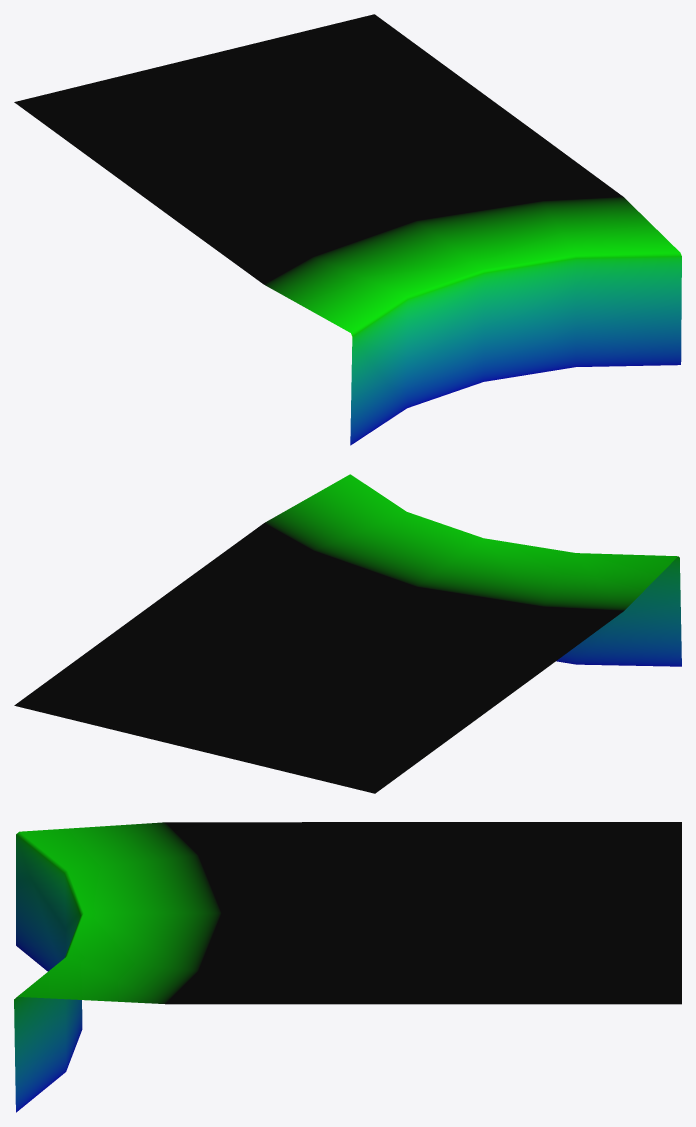
The picture shows the model from 3 angles, top to bottom: view 1: azimuth 30°, elevation 25°; view 2: azimuth 150°, elevation 25°; view 3: azimuth 270°, elevation 25°; orthographic projection. The views are drawn at different scales.
Visible parts, largest first — view 1: G:\FFXIV-MapTools\exports\s1t1\bg\ffxiv\sea_s1\twn\common\bg; view 2: G:\FFXIV-MapTools\exports\s1t1\bg\ffxiv\sea_s1\twn\common\bg; view 3: G:\FFXIV-MapTools\exports\s1t1\bg\ffxiv\sea_s1\twn\common\bg.
Part boxes in pixels (x1,y1,x2,y2): G:\FFXIV-MapTools\exports\s1t1\bg\ffxiv\sea_s1\twn\common\bg: [14, 14, 681, 445]; G:\FFXIV-MapTools\exports\s1t1\bg\ffxiv\sea_s1\twn\common\bg: [14, 474, 681, 793]; G:\FFXIV-MapTools\exports\s1t1\bg\ffxiv\sea_s1\twn\common\bg: [14, 822, 681, 1112].
Size of the model in its own units: 1.87 by 0.5538 by 2.89.
